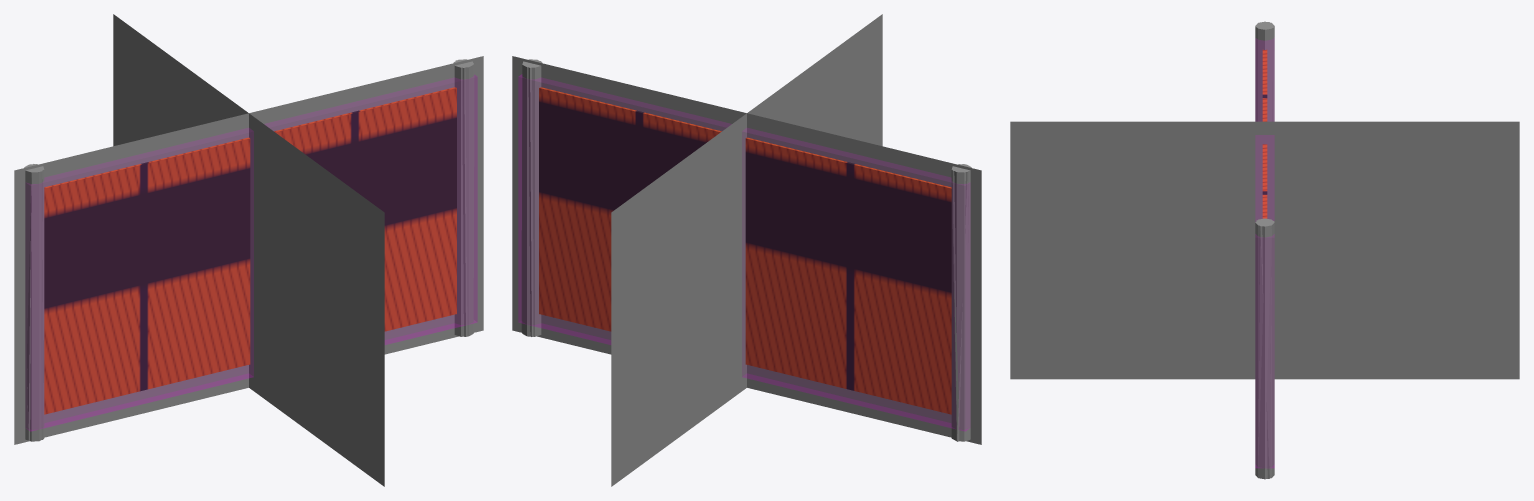
File: snowfence_orange_2m.dae
3 renders of one model, left to right at view 1: azimuth 30°, elevation 25°; view 2: azimuth 150°, elevation 25°; view 3: azimuth 270°, elevation 25°, orthographic. The views are drawn at different scales.
Visible parts, largest first — view 1: snowfence_orange_2m_a800, Colmesh_panel-1, snowfence_orange_2m_a50, snowfence_orange_2m_a200; view 2: snowfence_orange_2m_a800, Colmesh_panel-1, snowfence_orange_2m_a50, snowfence_orange_2m_a200; view 3: snowfence_orange_2m_a50, snowfence_orange_2m_a800, Colmesh_panel-1, snowfence_orange_2m_a200.
Part boxes in pixels (box(x1,y1,x2,y2)): snowfence_orange_2m_a800: box(24, 59, 473, 441); Colmesh_panel-1: box(26, 75, 477, 431); snowfence_orange_2m_a50: box(14, 14, 483, 486); snowfence_orange_2m_a200: box(27, 59, 474, 441); snowfence_orange_2m_a800: box(522, 59, 971, 441); Colmesh_panel-1: box(518, 74, 969, 431); snowfence_orange_2m_a50: box(512, 14, 981, 486); snowfence_orange_2m_a200: box(521, 60, 970, 441); snowfence_orange_2m_a50: box(1010, 121, 1519, 379); snowfence_orange_2m_a800: box(1255, 21, 1274, 479); Colmesh_panel-1: box(1255, 39, 1274, 467); snowfence_orange_2m_a200: box(1255, 22, 1274, 478).
Size of the model in its own units: 2.1 by 2.1 by 1.17.
Materials: 3 (1 with a texture image).
